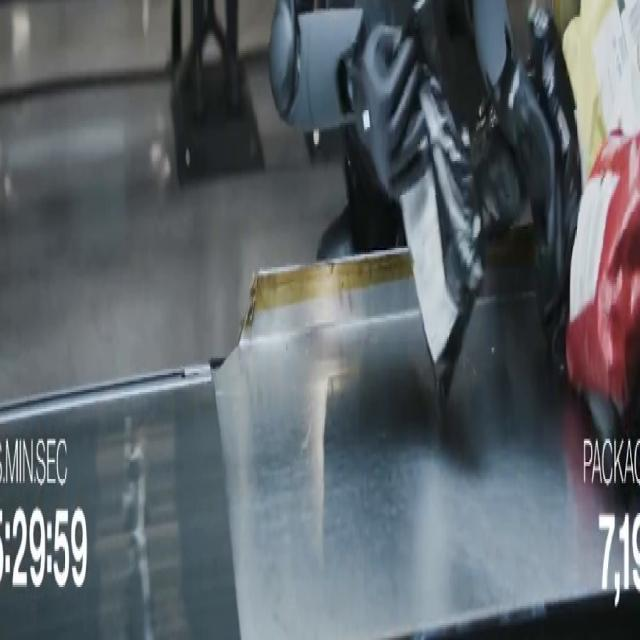package: (400, 77, 483, 411), (566, 132, 639, 413), (528, 9, 582, 368), (563, 0, 639, 175), (563, 0, 617, 175)
